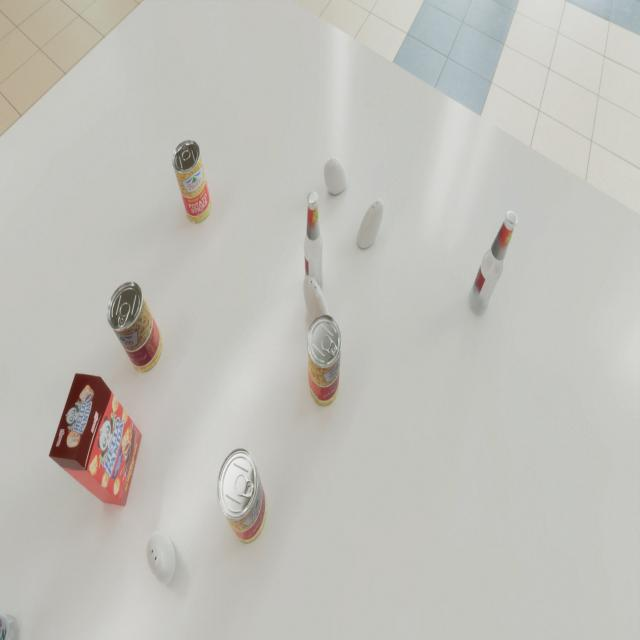Bottle: (468, 210, 518, 314), (304, 191, 323, 296)
HelloPanda: (48, 373, 142, 506)
Potato_sticks: (107, 281, 163, 373), (217, 448, 267, 544), (172, 140, 212, 223), (307, 314, 342, 407)
Salt: (146, 530, 176, 584), (303, 276, 330, 332), (357, 199, 384, 249), (324, 157, 347, 195)
